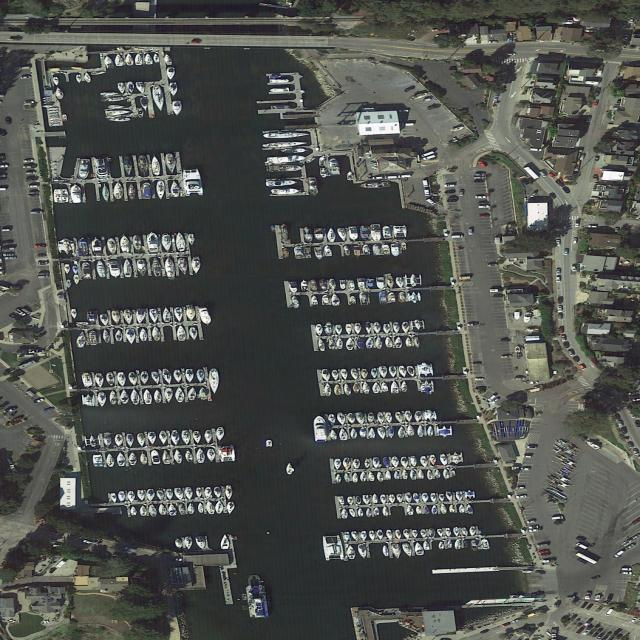ship: (243, 574, 270, 619), (321, 535, 346, 561), (182, 168, 203, 196), (151, 85, 167, 112), (313, 416, 328, 443), (95, 157, 111, 180), (56, 237, 77, 254), (197, 306, 214, 326), (217, 445, 237, 462), (163, 153, 179, 174), (263, 132, 310, 139), (209, 368, 221, 395), (262, 141, 308, 148), (76, 159, 91, 180), (414, 363, 435, 378), (267, 155, 306, 163), (150, 155, 164, 176), (146, 232, 160, 253), (403, 274, 423, 288), (83, 434, 103, 448), (163, 257, 176, 278), (359, 181, 392, 189), (136, 155, 149, 174), (70, 185, 83, 204), (446, 452, 465, 465), (267, 165, 302, 172), (123, 156, 135, 176), (161, 233, 173, 253), (154, 180, 166, 200), (151, 257, 163, 277), (307, 177, 319, 197), (418, 380, 435, 394), (118, 235, 131, 253), (81, 261, 94, 279), (108, 260, 121, 278), (370, 224, 383, 242), (265, 180, 298, 187), (77, 237, 89, 256), (435, 426, 454, 438), (53, 189, 69, 203), (392, 225, 408, 239), (175, 232, 186, 252), (91, 237, 103, 255), (112, 182, 124, 200), (177, 257, 189, 275), (136, 259, 148, 277), (328, 158, 340, 176), (101, 184, 112, 203), (408, 319, 427, 330), (583, 440, 602, 451), (106, 238, 118, 255), (95, 260, 107, 277), (406, 291, 423, 303), (280, 224, 290, 244), (122, 259, 133, 277), (80, 394, 95, 407), (169, 181, 181, 197), (409, 92, 430, 101), (141, 182, 152, 199), (191, 257, 202, 274), (76, 331, 87, 348), (271, 188, 302, 194), (82, 373, 94, 388), (423, 410, 438, 422), (172, 100, 183, 116), (132, 235, 143, 251), (161, 449, 172, 465), (186, 305, 197, 321), (123, 309, 134, 325), (303, 227, 314, 243), (162, 368, 172, 385), (175, 386, 185, 403), (86, 311, 98, 325), (402, 543, 413, 558), (357, 544, 368, 559), (172, 449, 183, 464), (176, 326, 187, 341), (111, 310, 122, 325), (392, 543, 402, 559), (196, 448, 206, 464), (128, 371, 138, 387), (130, 389, 140, 405), (171, 430, 181, 446), (162, 307, 172, 323), (126, 329, 136, 345), (88, 330, 98, 346), (136, 308, 146, 324), (106, 110, 132, 116), (103, 56, 115, 69), (92, 454, 104, 467), (284, 463, 296, 476), (205, 501, 216, 515), (168, 82, 179, 96), (150, 450, 161, 464), (105, 453, 116, 467), (138, 328, 149, 342), (390, 243, 401, 257), (128, 183, 137, 200), (204, 429, 214, 444), (220, 535, 230, 550), (104, 96, 129, 102), (181, 430, 191, 445), (108, 390, 118, 405), (120, 389, 130, 404), (117, 372, 127, 387), (139, 371, 149, 386), (95, 373, 105, 388), (143, 389, 153, 404), (359, 291, 369, 306), (349, 226, 359, 241), (107, 117, 131, 123), (98, 391, 107, 407), (196, 537, 207, 550), (355, 412, 366, 425), (148, 504, 158, 518), (215, 427, 225, 441), (414, 542, 424, 556), (174, 487, 184, 501), (206, 448, 216, 462), (139, 97, 149, 111), (173, 369, 183, 383), (106, 372, 116, 386), (103, 433, 113, 447), (158, 431, 168, 445), (149, 309, 159, 323), (360, 226, 370, 240), (463, 490, 477, 500), (449, 125, 466, 133), (225, 485, 234, 500), (185, 536, 194, 551), (137, 433, 146, 448), (165, 388, 174, 403), (174, 307, 183, 322), (327, 228, 336, 243), (288, 281, 299, 293), (192, 431, 202, 444), (339, 428, 349, 441), (336, 412, 346, 425), (184, 449, 194, 462), (55, 87, 65, 100), (151, 371, 161, 384), (116, 453, 126, 466), (128, 452, 138, 465), (147, 432, 157, 445), (114, 434, 124, 447), (187, 387, 197, 400), (198, 387, 208, 400), (189, 327, 199, 340), (337, 228, 347, 241), (378, 366, 388, 379), (314, 228, 324, 241), (314, 247, 324, 260), (294, 246, 304, 259), (185, 369, 194, 383), (152, 327, 161, 341), (168, 504, 178, 516), (215, 500, 223, 515), (377, 427, 387, 439), (136, 82, 146, 94), (114, 54, 124, 66), (124, 54, 134, 66), (197, 369, 205, 384), (99, 314, 109, 326), (376, 277, 386, 289), (407, 366, 417, 378), (355, 337, 365, 349), (523, 312, 533, 324), (347, 546, 356, 559), (158, 503, 167, 516), (226, 501, 235, 514), (166, 67, 175, 80), (154, 390, 163, 403), (125, 434, 134, 447), (386, 276, 395, 289), (346, 337, 355, 350), (322, 369, 331, 382), (389, 365, 398, 378), (506, 594, 525, 600), (103, 329, 111, 343), (291, 295, 299, 309), (379, 291, 387, 305), (324, 383, 332, 397), (325, 322, 333, 336), (381, 545, 390, 557), (214, 487, 223, 499), (203, 487, 212, 499), (137, 490, 146, 502), (165, 488, 174, 500), (397, 426, 406, 438), (420, 456, 429, 468), (390, 381, 399, 393), (117, 82, 126, 94), (114, 330, 123, 342), (303, 247, 312, 259), (318, 279, 327, 291), (384, 336, 393, 348), (315, 324, 324, 336), (185, 487, 193, 500), (387, 426, 395, 439), (135, 53, 143, 66), (140, 452, 148, 465), (620, 539, 633, 547), (344, 383, 352, 396), (310, 279, 318, 292), (332, 293, 340, 306), (383, 226, 391, 239), (375, 336, 383, 349), (139, 505, 148, 516), (187, 503, 196, 514), (156, 490, 165, 501), (426, 426, 435, 437), (414, 411, 423, 422), (404, 411, 413, 422), (395, 412, 404, 423), (329, 429, 338, 440), (347, 413, 356, 424), (372, 382, 381, 393), (353, 246, 362, 257), (372, 244, 381, 255), (395, 277, 404, 288), (333, 384, 342, 395), (350, 369, 359, 380), (370, 368, 379, 379), (178, 503, 186, 515), (118, 491, 126, 503), (127, 491, 135, 503), (147, 489, 155, 501), (417, 425, 425, 437), (440, 454, 448, 466), (392, 456, 400, 468), (385, 412, 393, 424), (367, 412, 375, 424), (372, 457, 380, 469), (343, 458, 351, 470), (145, 53, 153, 65), (398, 291, 406, 303), (358, 278, 366, 290), (324, 245, 332, 257), (366, 337, 374, 349), (399, 366, 407, 378), (328, 338, 336, 350), (395, 336, 403, 348), (305, 156, 317, 164), (284, 149, 308, 153), (318, 338, 325, 351), (481, 539, 490, 549), (108, 104, 126, 109), (523, 328, 541, 333), (376, 529, 384, 540), (341, 508, 349, 519), (197, 502, 205, 513), (407, 425, 415, 436), (350, 428, 358, 439), (410, 456, 418, 467), (401, 457, 409, 468), (359, 427, 367, 438), (381, 381, 389, 392), (446, 491, 454, 502), (426, 469, 434, 480), (376, 471, 384, 482), (359, 471, 367, 482), (137, 107, 145, 118), (73, 274, 81, 285), (84, 72, 92, 83), (127, 82, 135, 93), (188, 234, 196, 245), (353, 382, 361, 393), (470, 540, 478, 551), (329, 279, 337, 290), (363, 244, 371, 255), (341, 369, 349, 380), (331, 370, 339, 381), (361, 369, 369, 380), (336, 338, 344, 349), (345, 324, 353, 335), (373, 323, 381, 334), (402, 322, 410, 333), (269, 105, 291, 109), (430, 454, 437, 466), (377, 412, 384, 424), (329, 414, 336, 426), (165, 54, 172, 66), (363, 382, 370, 394), (355, 323, 362, 335), (365, 322, 372, 334), (403, 529, 411, 539), (429, 528, 437, 538), (461, 527, 469, 537), (351, 531, 359, 541), (175, 539, 183, 549), (440, 504, 448, 514), (421, 493, 429, 503), (413, 493, 421, 503), (456, 491, 464, 501), (70, 309, 78, 319), (343, 246, 351, 256), (334, 325, 342, 335), (383, 324, 391, 334), (513, 311, 521, 321), (320, 168, 328, 178), (282, 248, 290, 258), (270, 88, 290, 92), (270, 79, 290, 83), (395, 529, 402, 540), (407, 505, 414, 516), (361, 530, 368, 541), (196, 487, 203, 498), (369, 428, 376, 439), (383, 457, 390, 468), (401, 381, 408, 392), (368, 471, 375, 482), (344, 472, 351, 483), (334, 459, 341, 470), (348, 280, 355, 291), (301, 280, 308, 291), (322, 294, 329, 305), (389, 292, 396, 303), (393, 322, 400, 333), (414, 337, 421, 348), (469, 527, 477, 536), (423, 541, 431, 550), (52, 77, 60, 86), (75, 74, 83, 83), (100, 92, 118, 96), (386, 530, 393, 540), (453, 527, 460, 537), (130, 506, 137, 516), (111, 493, 118, 503), (363, 495, 370, 505), (364, 458, 371, 468), (353, 459, 360, 469), (431, 505, 438, 515), (349, 508, 356, 518), (389, 494, 396, 504), (443, 469, 450, 479), (410, 470, 417, 480), (393, 470, 400, 480), (385, 470, 392, 480), (64, 264, 71, 274), (339, 280, 346, 290), (311, 295, 318, 305), (405, 337, 412, 347), (268, 74, 282, 79), (369, 530, 375, 541), (344, 531, 350, 542), (402, 469, 408, 480), (352, 472, 358, 483), (438, 494, 446, 502), (90, 71, 106, 75), (367, 279, 375, 287), (420, 529, 427, 538), (437, 528, 444, 537), (445, 528, 452, 537), (423, 505, 430, 514), (415, 506, 422, 515), (357, 508, 364, 517), (458, 504, 465, 513), (397, 494, 404, 503), (153, 54, 160, 63), (264, 440, 273, 447), (455, 539, 461, 549), (383, 506, 389, 516), (372, 494, 378, 504), (467, 504, 473, 514), (406, 493, 412, 503), (381, 494, 387, 504), (418, 469, 424, 479), (347, 497, 354, 505), (76, 322, 90, 326), (514, 346, 522, 353), (269, 225, 277, 232), (61, 114, 69, 121), (438, 541, 444, 550), (366, 508, 372, 517), (339, 496, 345, 505), (374, 507, 380, 516), (356, 496, 362, 505), (431, 493, 437, 502), (449, 504, 455, 513), (435, 469, 441, 478), (336, 474, 342, 483), (72, 265, 78, 274), (347, 171, 353, 180), (319, 157, 325, 166), (412, 530, 418, 538), (350, 296, 356, 304), (463, 541, 469, 548), (401, 243, 407, 250), (67, 280, 72, 288), (383, 273, 393, 277), (522, 571, 534, 574), (42, 105, 54, 108), (48, 108, 60, 111), (49, 118, 61, 121), (41, 99, 52, 102), (50, 120, 61, 123), (448, 540, 452, 548), (451, 471, 456, 477), (49, 110, 59, 113), (49, 113, 59, 116), (50, 115, 60, 118), (42, 97, 52, 99)
small-vehicle: (81, 539, 101, 546), (575, 542, 590, 550), (420, 151, 435, 158), (8, 313, 21, 321), (613, 550, 626, 558), (425, 198, 437, 206), (421, 155, 437, 161), (604, 608, 614, 617), (596, 632, 607, 640), (486, 394, 497, 402), (15, 309, 27, 316), (4, 407, 18, 413), (123, 546, 137, 552), (625, 543, 637, 550), (404, 85, 416, 92), (576, 557, 588, 564), (555, 179, 565, 187), (477, 161, 488, 168), (21, 308, 32, 315), (579, 602, 590, 609), (628, 617, 639, 624), (577, 364, 588, 371), (397, 174, 412, 179), (562, 186, 571, 194), (32, 398, 44, 404), (12, 416, 24, 422), (550, 629, 558, 638), (584, 592, 593, 600), (511, 618, 523, 624), (575, 537, 587, 543), (589, 575, 601, 581), (538, 171, 548, 178), (585, 603, 595, 610), (530, 592, 544, 597), (528, 528, 542, 533), (626, 441, 636, 448), (536, 543, 550, 548), (536, 569, 547, 575), (427, 105, 440, 110), (515, 494, 528, 499), (551, 516, 564, 521), (538, 550, 551, 555), (620, 22, 628, 30), (421, 180, 429, 188), (492, 396, 500, 404), (541, 559, 557, 563), (567, 349, 575, 357), (22, 165, 38, 169), (548, 172, 557, 179), (595, 606, 604, 613), (581, 629, 590, 636), (571, 356, 580, 363), (615, 420, 624, 427), (631, 448, 640, 455), (42, 407, 54, 412), (592, 175, 599, 183), (529, 148, 543, 152), (401, 122, 415, 126), (613, 413, 621, 420), (628, 390, 639, 395), (628, 412, 637, 418), (444, 190, 457, 194), (477, 205, 490, 209), (486, 263, 499, 267), (169, 558, 182, 562), (503, 52, 516, 56), (620, 571, 633, 575), (492, 294, 505, 298), (585, 29, 598, 33), (525, 520, 538, 524), (527, 525, 540, 529), (22, 159, 35, 163), (480, 629, 490, 634), (502, 622, 512, 627), (554, 240, 561, 247), (424, 189, 431, 196), (560, 335, 567, 342), (594, 594, 601, 601), (623, 34, 630, 41), (593, 156, 601, 162), (475, 195, 487, 199), (459, 189, 465, 197), (444, 184, 456, 188), (558, 327, 564, 335), (557, 296, 563, 304), (398, 109, 410, 113), (372, 176, 384, 180), (562, 342, 570, 348), (521, 467, 533, 471), (468, 323, 480, 327), (546, 500, 558, 504), (619, 428, 627, 434), (2, 240, 13, 244), (38, 272, 49, 276), (25, 171, 36, 175), (621, 567, 632, 571), (501, 355, 512, 359), (526, 445, 537, 449), (27, 177, 38, 181), (20, 75, 31, 79), (579, 154, 585, 161), (556, 306, 563, 312), (571, 265, 577, 272), (563, 249, 569, 256), (555, 268, 561, 275), (471, 53, 485, 56), (586, 117, 593, 123), (492, 97, 499, 103), (495, 91, 501, 98), (607, 595, 614, 601), (5, 117, 11, 124), (557, 313, 562, 321), (478, 215, 491, 218), (385, 176, 398, 179), (34, 245, 47, 248), (629, 17, 635, 23), (474, 173, 486, 176), (574, 221, 580, 227), (556, 277, 562, 283), (467, 229, 473, 235), (451, 235, 463, 238), (3, 253, 15, 256), (30, 211, 42, 214), (593, 100, 599, 106), (478, 202, 490, 205), (514, 377, 526, 380), (459, 276, 471, 279), (8, 38, 20, 41), (573, 237, 578, 244), (614, 227, 619, 234), (474, 176, 485, 179), (587, 225, 598, 228), (5, 256, 16, 259), (27, 185, 38, 188), (447, 200, 458, 203), (474, 378, 485, 381), (500, 340, 511, 343), (24, 101, 35, 104), (191, 40, 202, 43), (29, 194, 39, 197), (29, 191, 39, 194), (489, 40, 499, 43), (473, 361, 483, 364), (523, 455, 533, 458), (38, 276, 48, 278)
